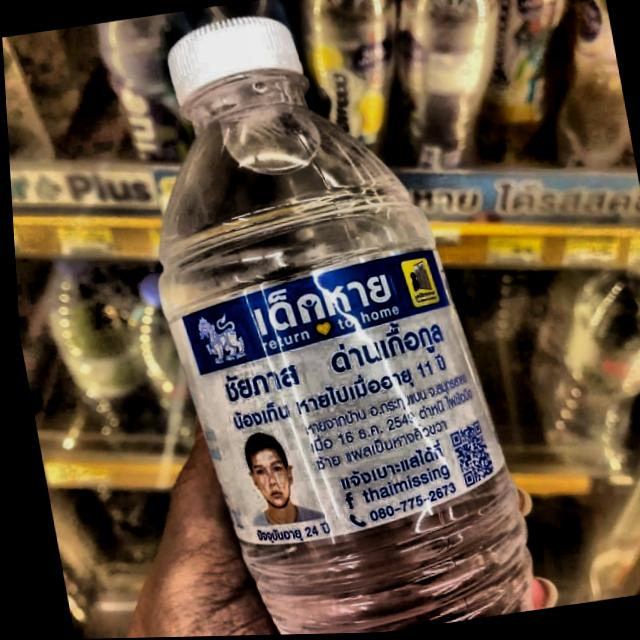Bottles: (95, 0, 554, 638)
